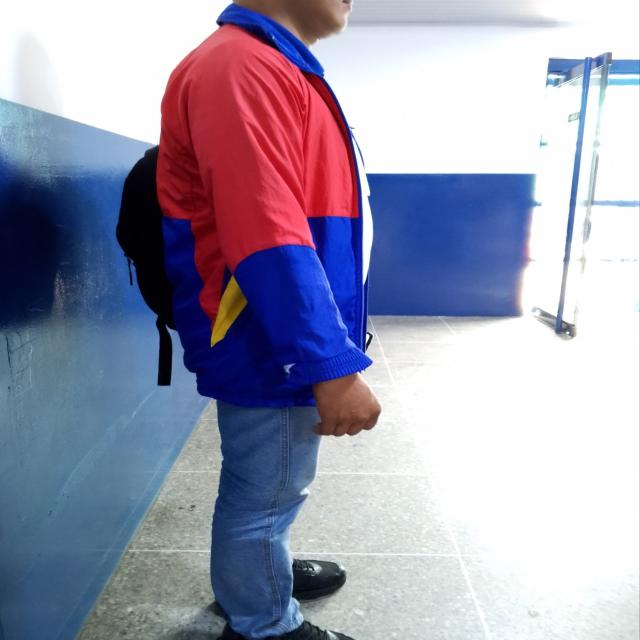chaqueta_unefa: (154, 3, 376, 411)
